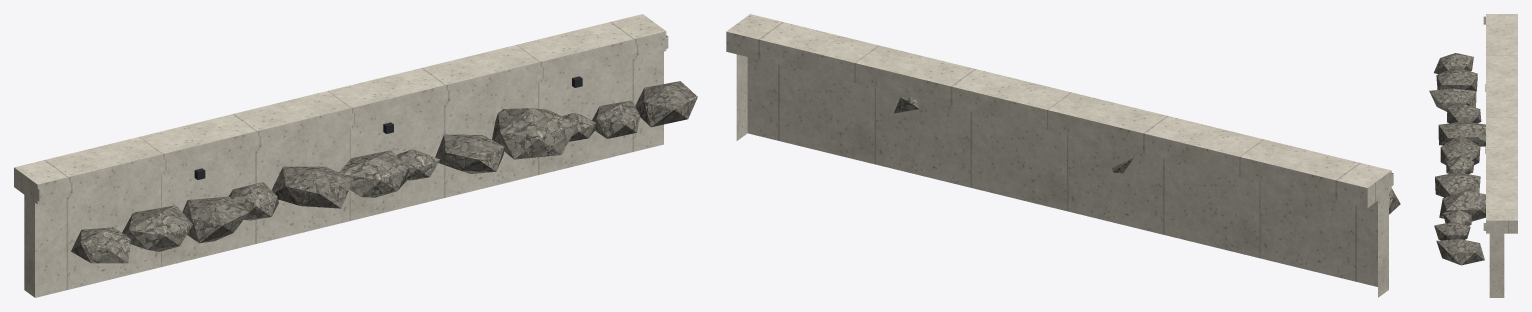
Rendered from med_seawall_10m.fbx.
3 renders of one model, left to right at view 1: azimuth 30°, elevation 25°; view 2: azimuth 150°, elevation 25°; view 3: azimuth 270°, elevation 25°, orthographic. The views are drawn at different scales.
Visible parts, largest first — view 1: med_seawall_10m_LOD0; view 2: med_seawall_10m_LOD0; view 3: med_seawall_10m_LOD0.
Part boxes in pixels (x1,y1,x2,y2): med_seawall_10m_LOD0: (14,14,697,297); med_seawall_10m_LOD0: (726,14,1400,297); med_seawall_10m_LOD0: (1429,14,1517,297).
Size of what is drawn, in the model's own units: 10.15 by 1.75 by 1.82.
1 material, 1 textured.
